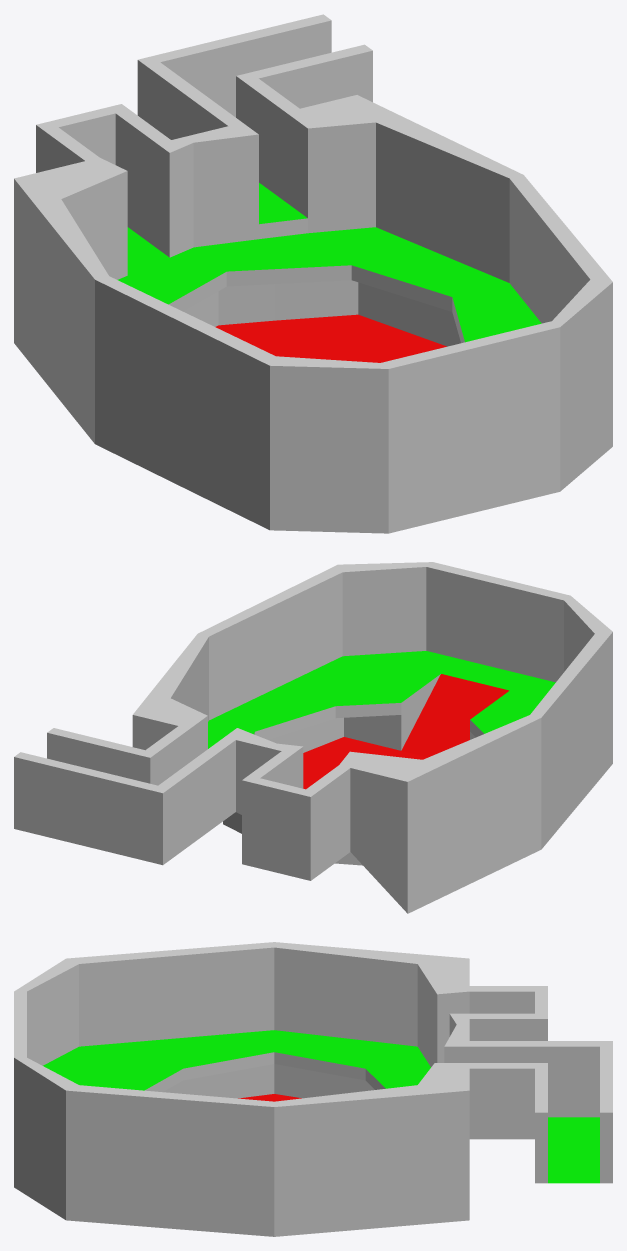
The model's file is Sala3.glb.
3 views of the same model, one above another, from view 1: azimuth 30°, elevation 25°; view 2: azimuth 150°, elevation 25°; view 3: azimuth 270°, elevation 25° (orthographic). The views are drawn at different scales.
Parts seen in each view (by area): view 1: Sala3; view 2: Sala3; view 3: Sala3.
Part boxes in pixels (left/top/right/bottom): Sala3: left=14, top=14, right=612, bottom=533; Sala3: left=14, top=562, right=612, bottom=913; Sala3: left=14, top=942, right=612, bottom=1236.
Size of the model in its own units: 31 by 11 by 46.
